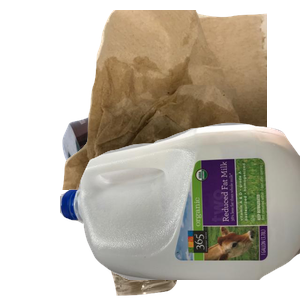glass: (91, 142, 260, 300)
metal: (60, 79, 300, 259)
plastic: (60, 120, 300, 300)
trash: (60, 10, 300, 190)
